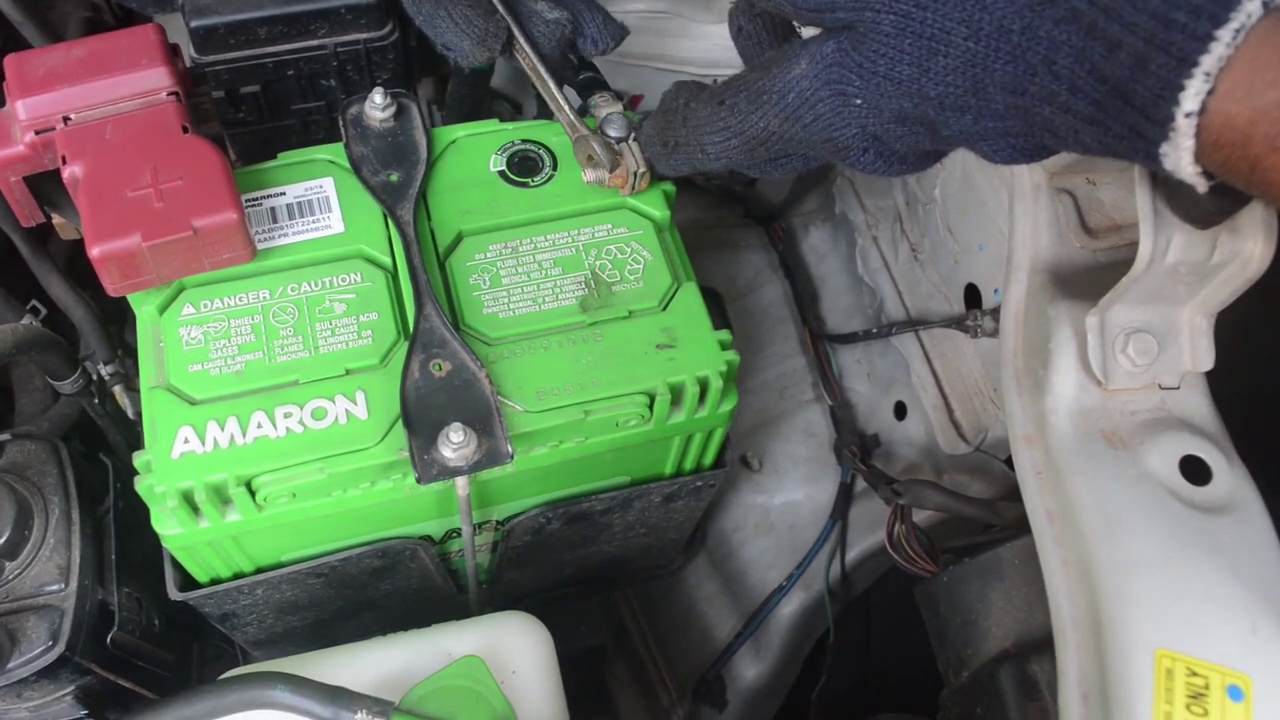battery: (128, 118, 750, 480)
neg_connected: (548, 60, 672, 200)
neg_touched: (477, 1, 857, 214)
pos_connected: (37, 39, 284, 280)
